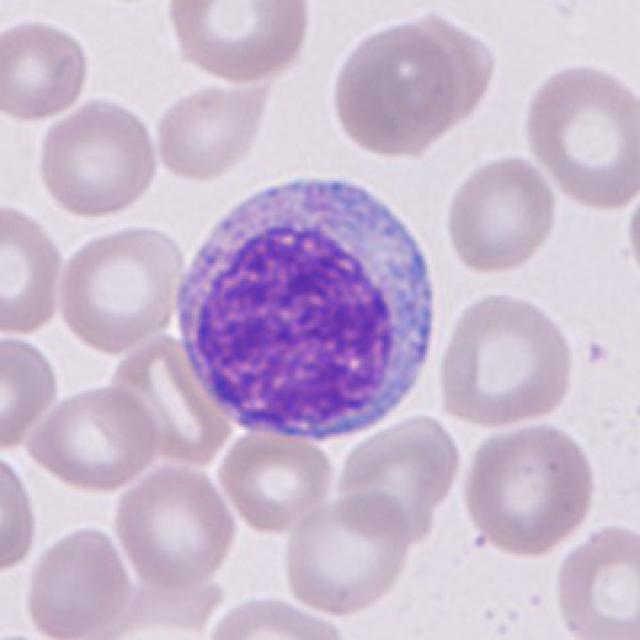Lymphocyte: (164, 160, 450, 453)
RBC: (434, 288, 576, 430), (329, 16, 464, 164), (461, 418, 599, 558), (518, 57, 639, 215), (55, 221, 189, 356), (334, 411, 462, 549), (278, 487, 415, 615), (110, 459, 238, 590), (374, 5, 502, 135), (36, 95, 162, 221), (23, 381, 164, 493), (439, 151, 560, 279), (20, 521, 135, 640), (213, 427, 336, 537), (151, 75, 270, 185), (160, 0, 314, 85), (549, 521, 640, 640), (0, 16, 94, 123), (2, 199, 68, 336), (2, 331, 60, 455), (205, 594, 356, 640), (0, 448, 41, 578), (622, 173, 640, 301)
